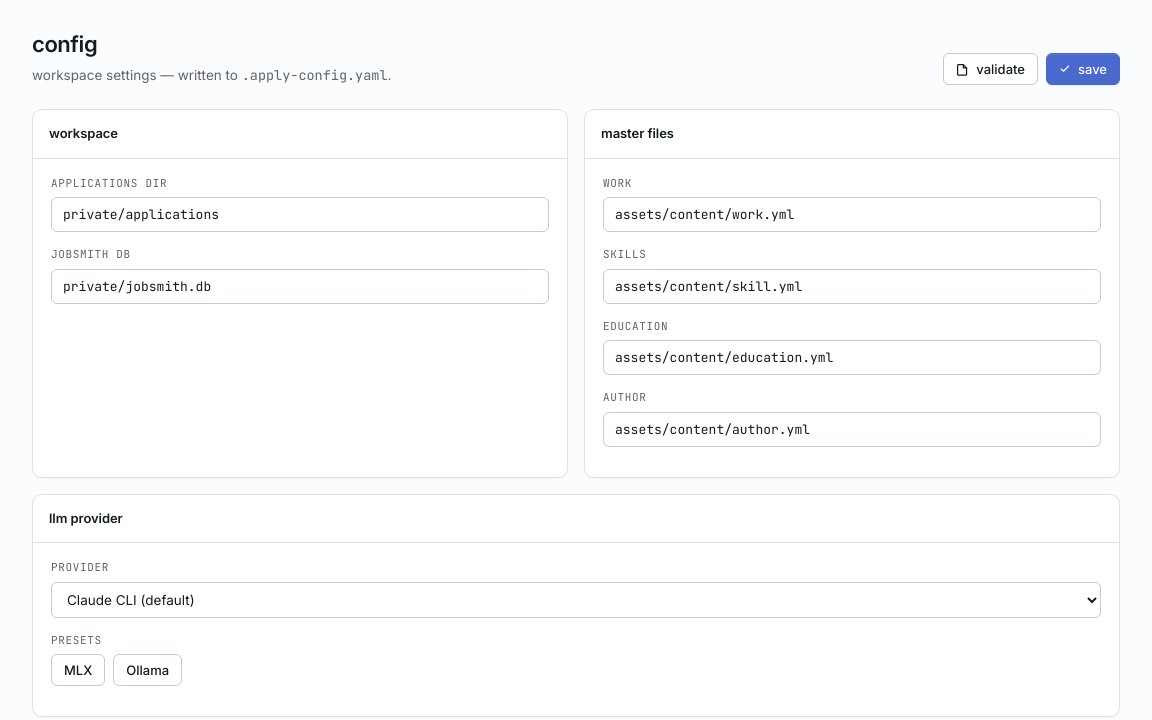
Test: ConfigView › shows success message after PUT /api/config resolves
The image size is (1152, 720).
Expected: the 2nd field showing "assets/content/work.yml" is shown, x1=603 y1=197 x2=1101 y2=232
Click the button "save" at (1083, 69), box x1=1046 y1=53 x2=1120 y2=85
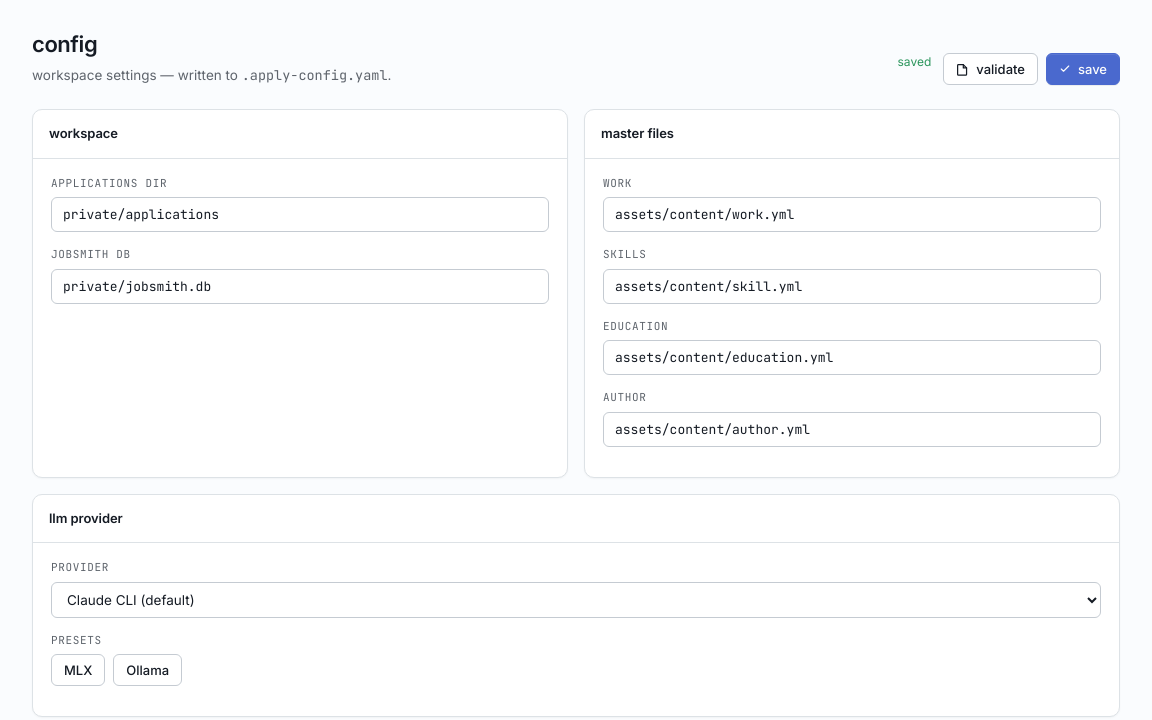
Now the text "saved" is shown, box x1=898 y1=54 x2=931 y2=69
